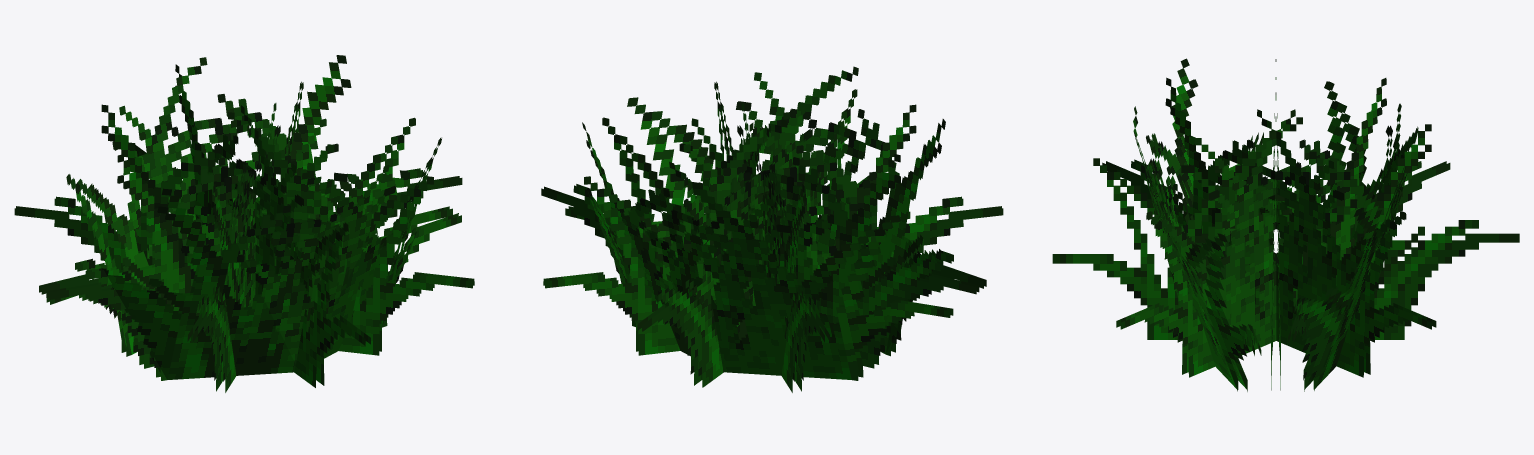
The model's file is grass_bush_spring.glb.
3 views of the same model, side by side, from view 1: azimuth 30°, elevation 25°; view 2: azimuth 150°, elevation 25°; view 3: azimuth 270°, elevation 25° (orthographic).
Visible parts, largest first — view 1: grass_bush; view 2: grass_bush; view 3: grass_bush.
Boxes of the visible parts, x1,y1,x2,y2 form: grass_bush: [14, 55, 474, 392]; grass_bush: [541, 66, 1003, 392]; grass_bush: [1052, 58, 1519, 391].
Bounding box in the file's own units: 0.8016 × 0.4 × 0.8.
Materials: 1 (1 with a texture image).
